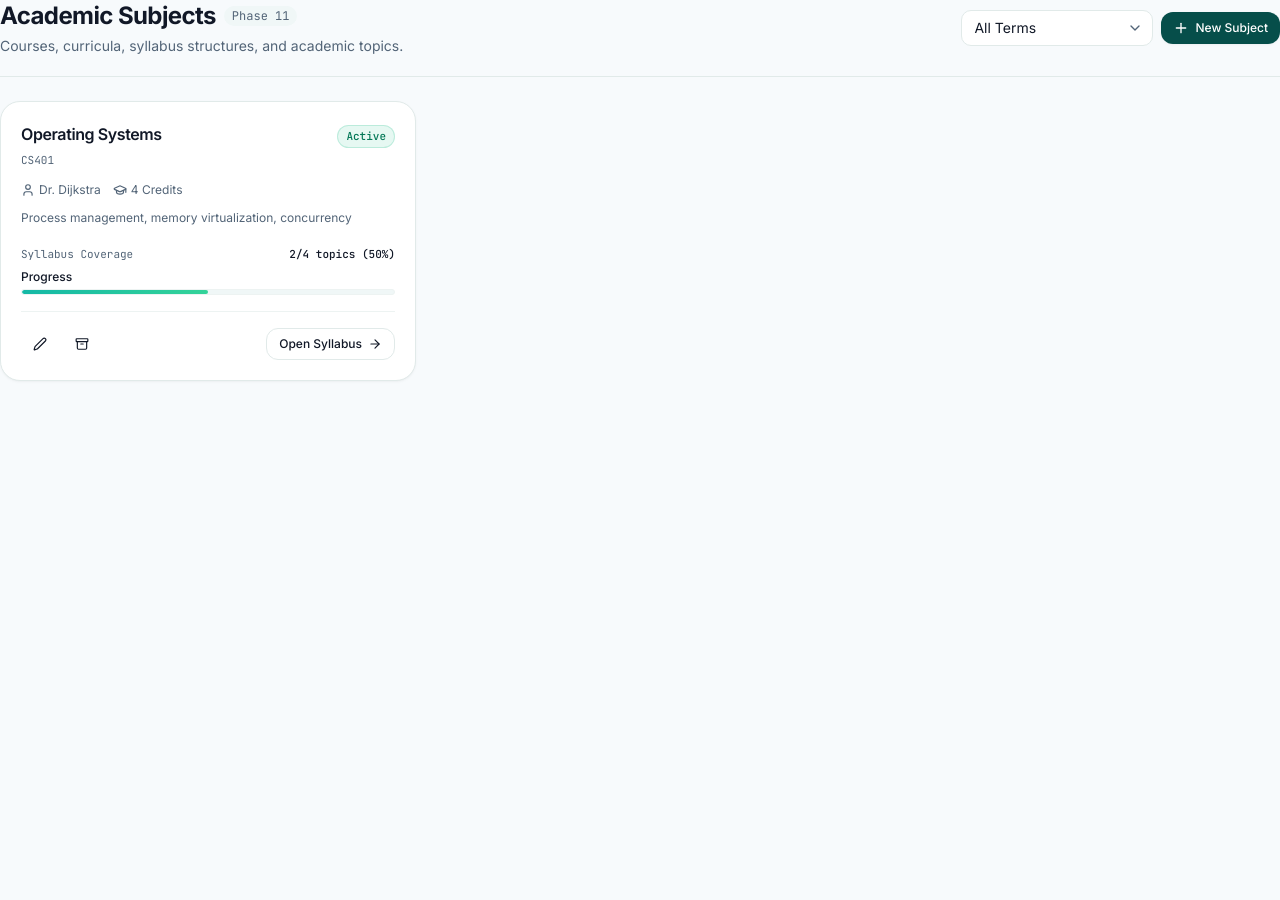
it: Academics Frontend Pages › SubjectsPage renders subjects list with syllabus coverage and opens modal
The width and height of the screenshot is (1280, 900).
Expected: the heading "Academic Subjects" is shown, [0,0,216,32]
Expected: the heading "Operating Systems" is shown, [21,122,162,146]
Step 1. Click the button "New Subject" → (1221, 28), box [1162,12,1279,44]
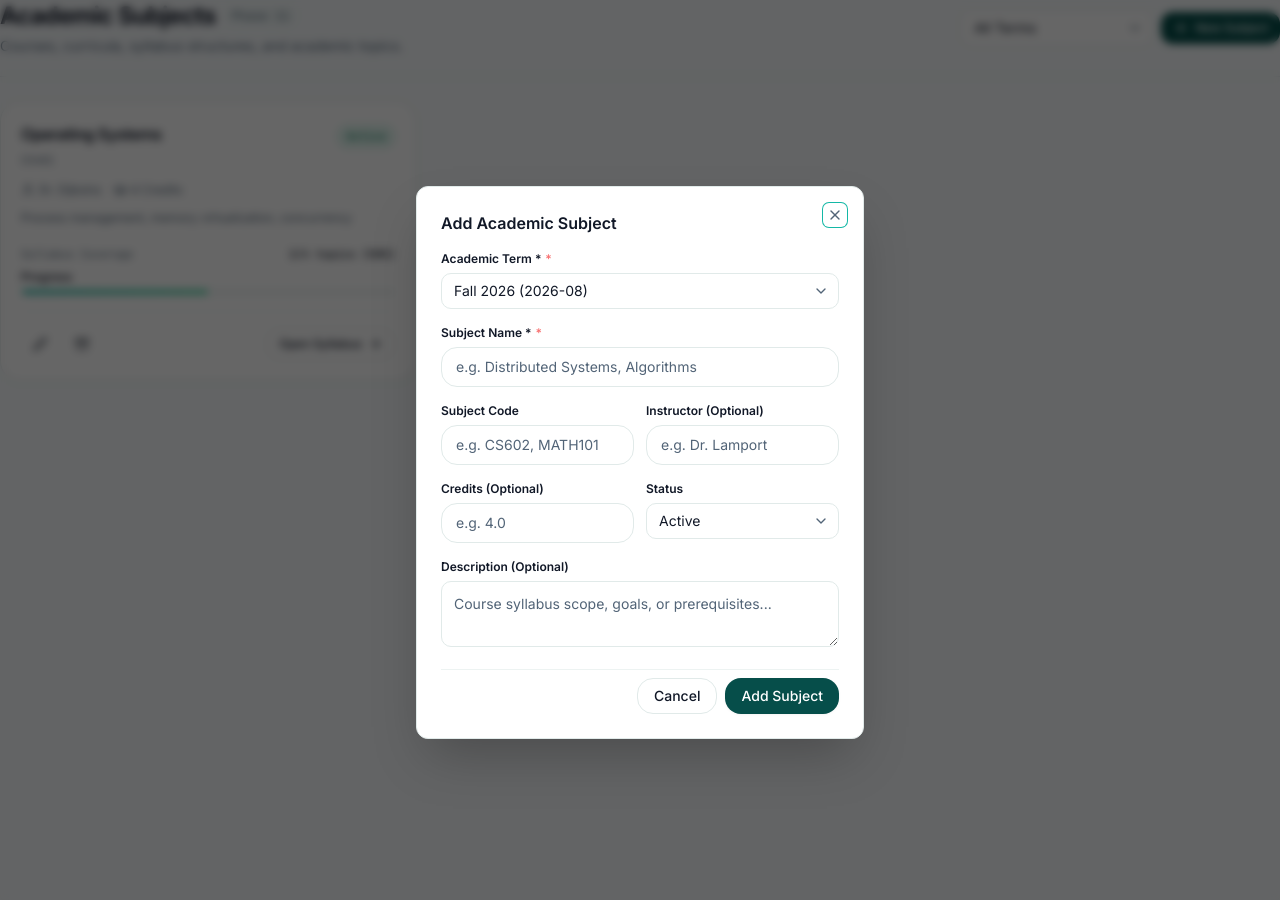
Result: the heading "Add Academic Subject" is shown at [441,212,617,232]
